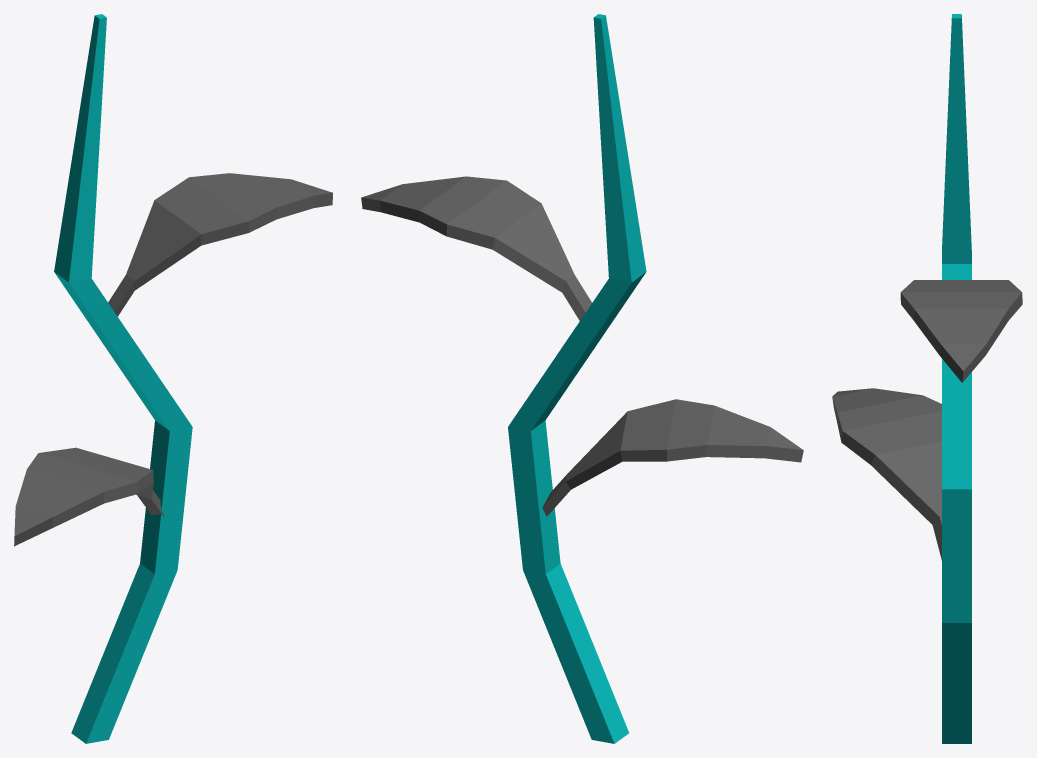
Rendered from winter_1.glb.
3 views of the same model, side by side, from view 1: azimuth 30°, elevation 25°; view 2: azimuth 150°, elevation 25°; view 3: azimuth 270°, elevation 25° (orthographic).
Parts seen in each view (by area): view 1: Plane042, Plane042_1; view 2: Plane042, Plane042_1; view 3: Plane042_1, Plane042.
Part boxes in pixels (<box>): Plane042: <box>54,14,192,743</box>; Plane042_1: <box>14,173,332,546</box>; Plane042: <box>508,14,646,743</box>; Plane042_1: <box>361,176,803,516</box>; Plane042_1: <box>832,280,1022,560</box>; Plane042: <box>942,14,971,743</box>.
Bounding box in the file's own units: 21.7 × 39.15 × 9.28.
